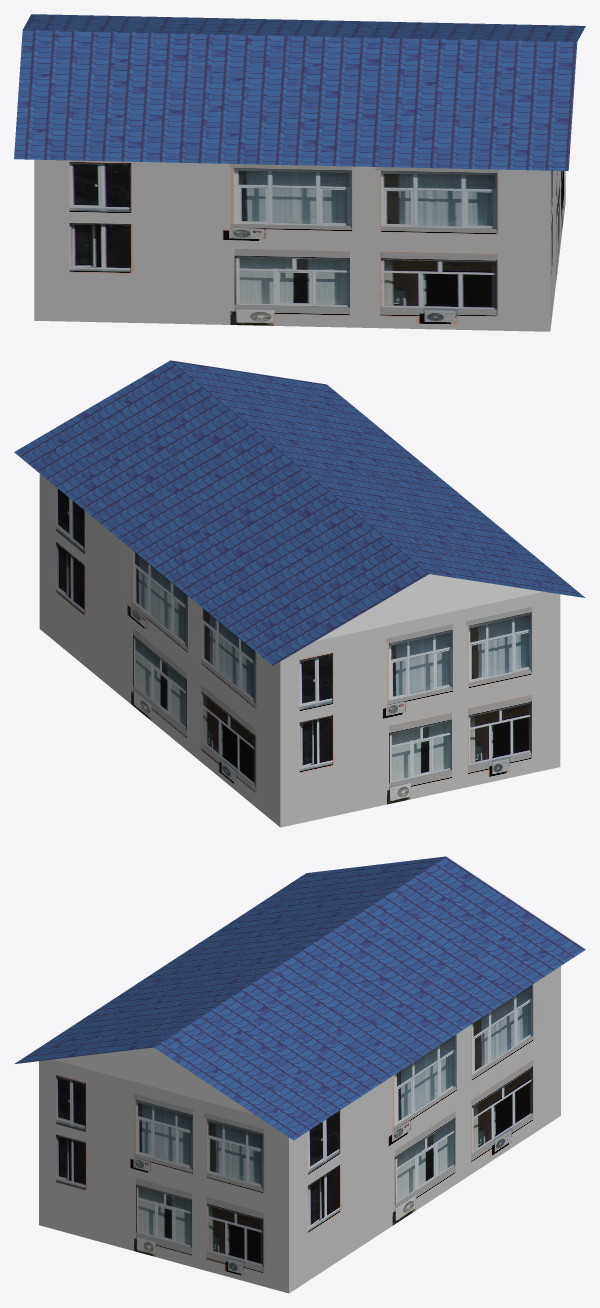
The picture shows the model from 3 angles, top to bottom: view 1: azimuth 30°, elevation 25°; view 2: azimuth 150°, elevation 25°; view 3: azimuth 270°, elevation 25°; orthographic projection. The views are drawn at different scales.
Visible parts, largest first — view 1: CityEngineMaterial_9_m, CityEngineMaterial_10_m; view 2: CityEngineMaterial_9_m, CityEngineMaterial_10_m, CityEngineMaterial_3_m; view 3: CityEngineMaterial_9_m, CityEngineMaterial_10_m, CityEngineMaterial_3_m.
Boxes of the visible parts, x1,y1,x2,y2 form: CityEngineMaterial_9_m: (34, 159, 565, 331); CityEngineMaterial_10_m: (14, 14, 585, 170); CityEngineMaterial_9_m: (39, 474, 560, 827); CityEngineMaterial_10_m: (14, 360, 585, 665); CityEngineMaterial_3_m: (316, 574, 543, 640); CityEngineMaterial_9_m: (39, 966, 560, 1293); CityEngineMaterial_10_m: (15, 856, 585, 1140); CityEngineMaterial_3_m: (53, 1047, 254, 1114).
Bounding box in the file's own units: 33.79 × 12.87 × 30.54.
